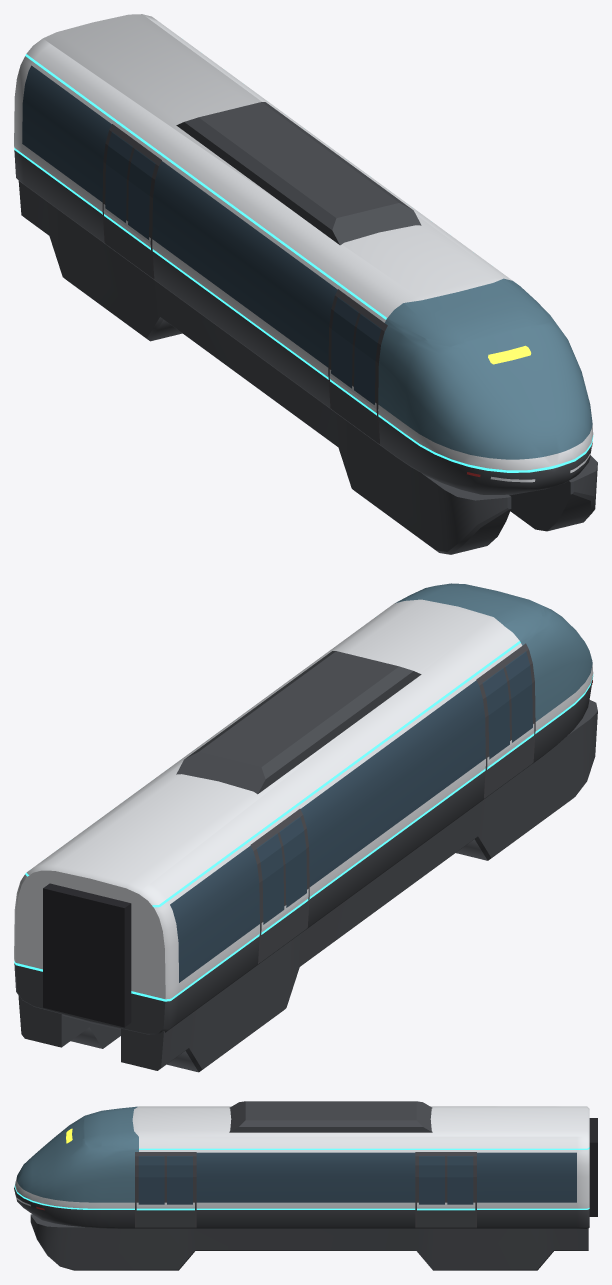
The picture shows the model from 3 angles, top to bottom: view 1: azimuth 30°, elevation 25°; view 2: azimuth 150°, elevation 25°; view 3: azimuth 270°, elevation 25°; orthographic projection. The views are drawn at different scales.
Parts seen in each view (by area): view 1: 318; view 2: 318; view 3: 318.
Boxes of the visible parts, left/top/right/bottom form: 318: left=14, top=14, right=597, bottom=554; 318: left=14, top=583, right=597, bottom=1072; 318: left=14, top=1101, right=597, bottom=1270.
Bounding box in the file's own units: 2.72 × 3.7 × 14.
